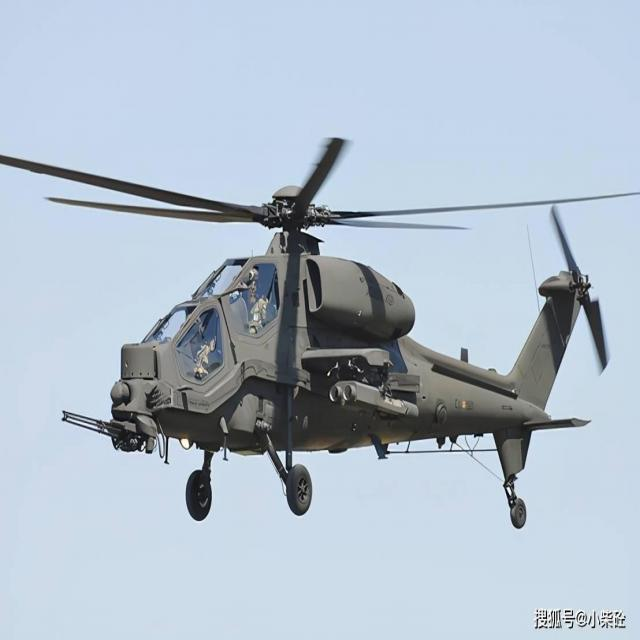MIL_HELO: (0, 129, 640, 540)
